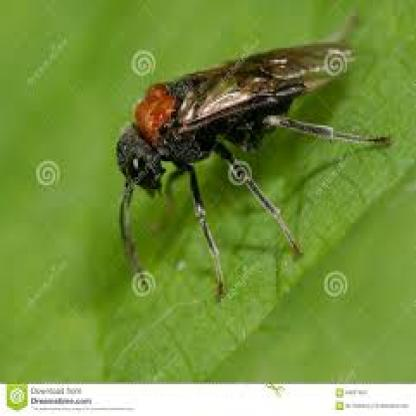sawfly: (107, 32, 392, 291)
